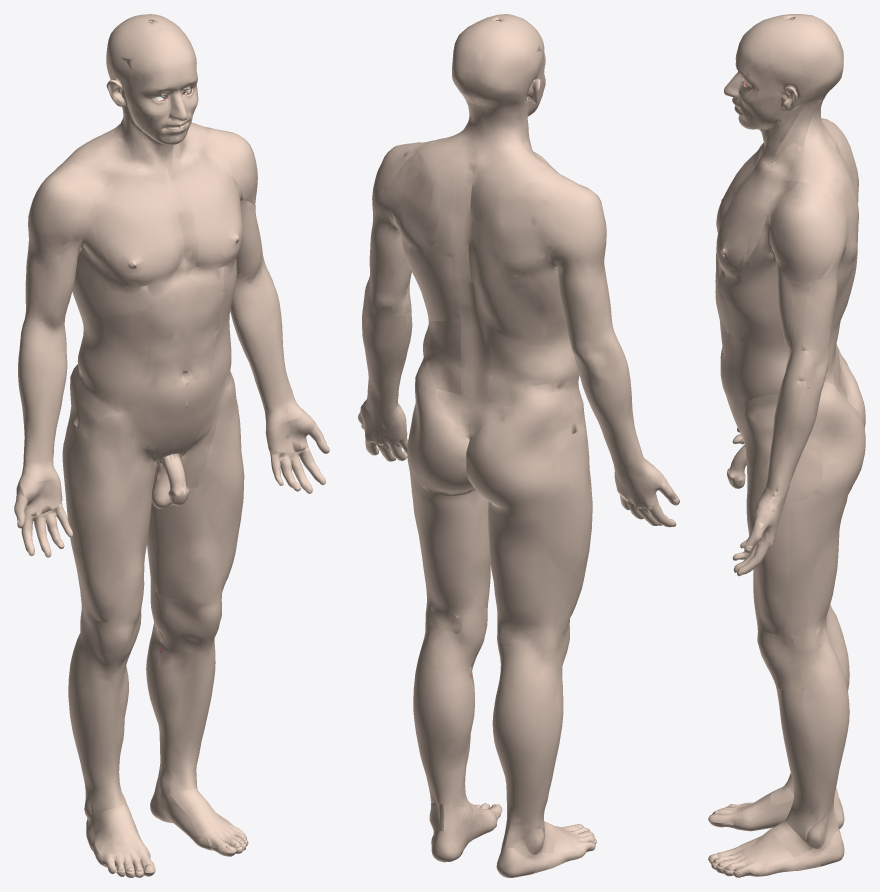
File: body.meshopt.glb
3 views of the same model, side by side, from view 1: azimuth 30°, elevation 25°; view 2: azimuth 150°, elevation 25°; view 3: azimuth 270°, elevation 25° (orthographic).
Visible parts, largest first — view 1: skin; view 2: skin; view 3: skin.
Part boxes in pixels (bbox=[...]): skin: bbox=[14, 14, 329, 877]; skin: bbox=[358, 14, 679, 877]; skin: bbox=[708, 14, 865, 877].
Bounding box in the file's own units: 0.6963 × 1.75 × 0.301.
